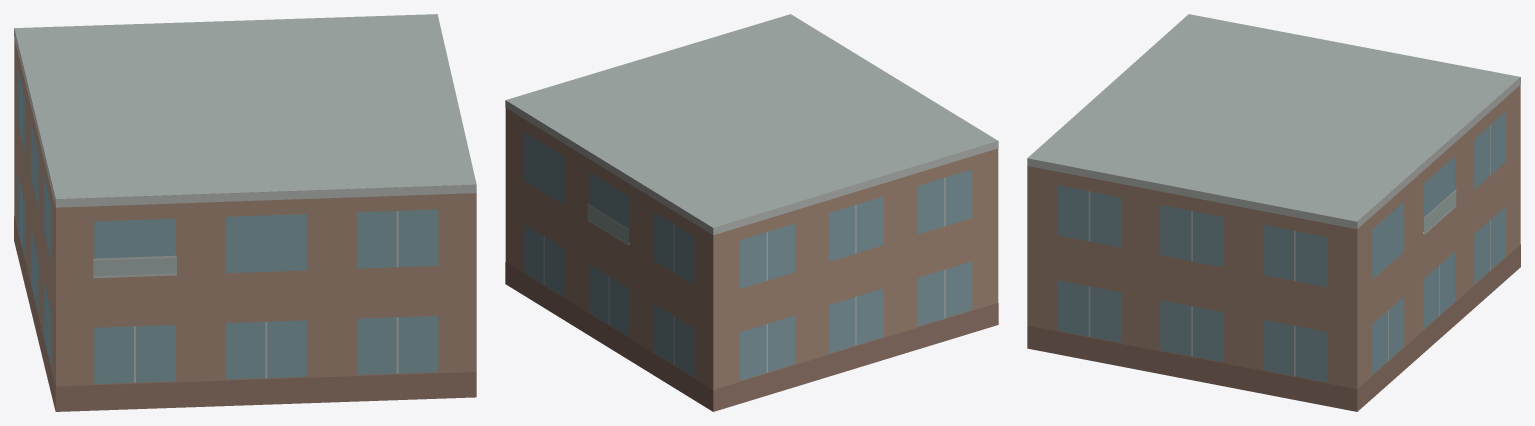
Rendered from survey-upis-32669520.glb.
The picture shows the model from 3 angles, left to right: view 1: azimuth 30°, elevation 25°; view 2: azimuth 150°, elevation 25°; view 3: azimuth 270°, elevation 25°; orthographic projection. The views are drawn at different scales.
Parts seen in each view (by area): view 1: survey-upis-32669520.tmp; view 2: survey-upis-32669520.tmp; view 3: survey-upis-32669520.tmp.
Boxes of the visible parts, <box> form: survey-upis-32669520.tmp: <box>14,14,476,411</box>; survey-upis-32669520.tmp: <box>505,14,998,411</box>; survey-upis-32669520.tmp: <box>1027,14,1520,411</box>.
Bounding box in the file's own units: 14.3 × 6.1 × 14.36.
